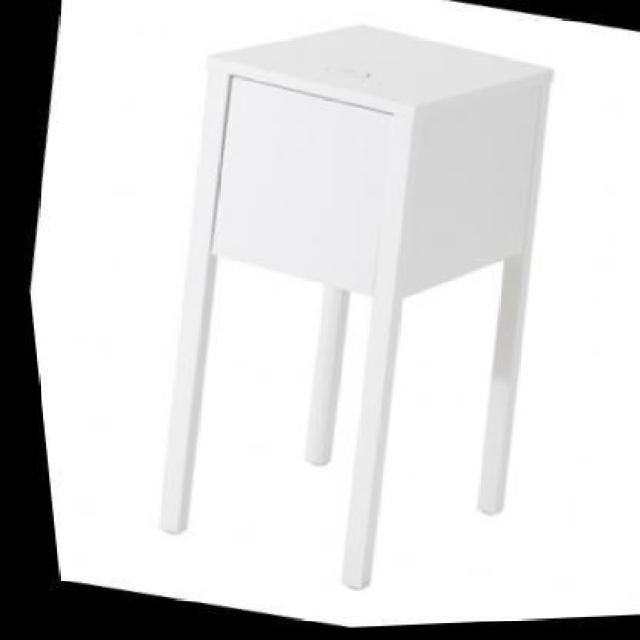tables: (157, 22, 555, 589)
